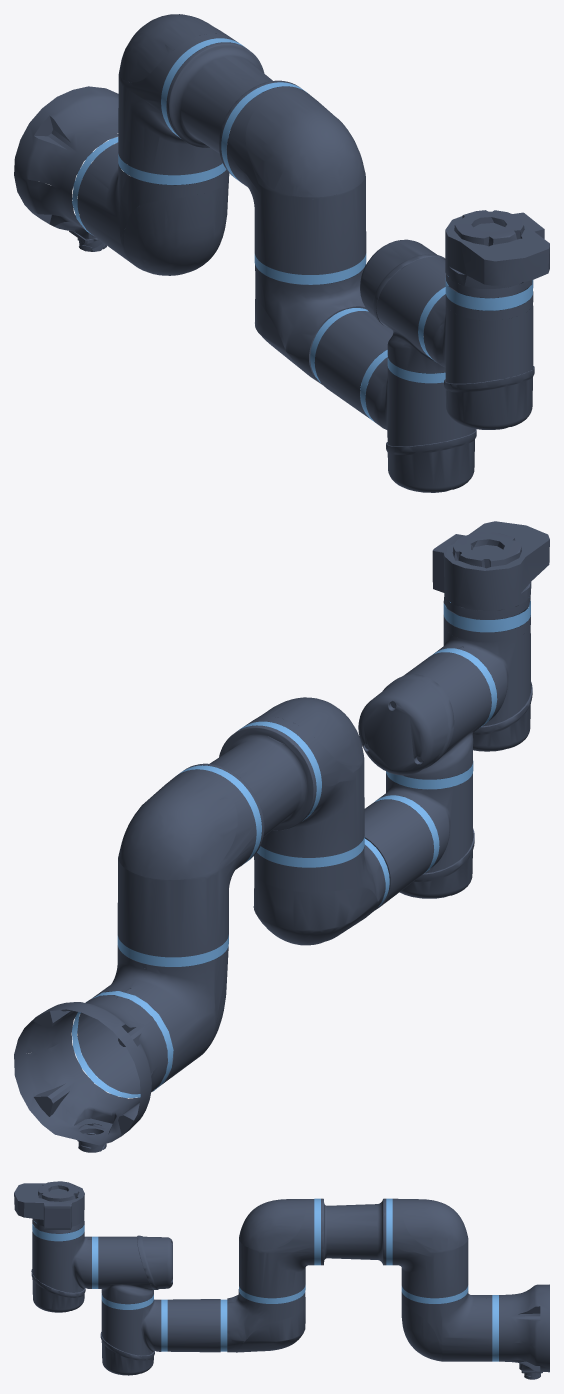
Rendered from 3kg-6axis-model.glb.
3 renders of one model, top to bottom at view 1: azimuth 30°, elevation 25°; view 2: azimuth 150°, elevation 25°; view 3: azimuth 270°, elevation 25°, orthographic. The views are drawn at different scales.
Parts seen in each view (by area): view 1: Link2, Link3, Link1, Link5, Base, Link6, Link4; view 2: Link2, Link3, Base, Link4, Link1, Link6, Link5; view 3: Link2, Link3, Link1, Link4, Base, Link5, Link6.
Part boxes in pixels (box(x1,y1,x2,y2)): Link2: box(118, 14, 366, 284); Link3: box(255, 264, 476, 492); Link1: box(77, 133, 229, 275); Link5: box(423, 276, 534, 429); Base: box(14, 86, 173, 251); Link6: box(445, 210, 549, 298); Link4: box(360, 239, 497, 373); Link2: box(117, 697, 364, 957); Link3: box(253, 761, 474, 945); Base: box(14, 991, 173, 1152); Link4: box(358, 648, 497, 779); Link1: box(77, 935, 228, 1094); Link6: box(432, 521, 549, 619); Link5: box(435, 597, 532, 751); Link2: box(239, 1198, 468, 1303); Link3: box(100, 1289, 305, 1375); Link1: box(401, 1285, 492, 1361); Link4: box(92, 1235, 172, 1303); Base: box(492, 1284, 549, 1379); Link5: box(31, 1221, 91, 1312); Link6: box(14, 1181, 84, 1233).
Bounding box in the file's own units: 0.1341 × 0.3151 × 0.82.
